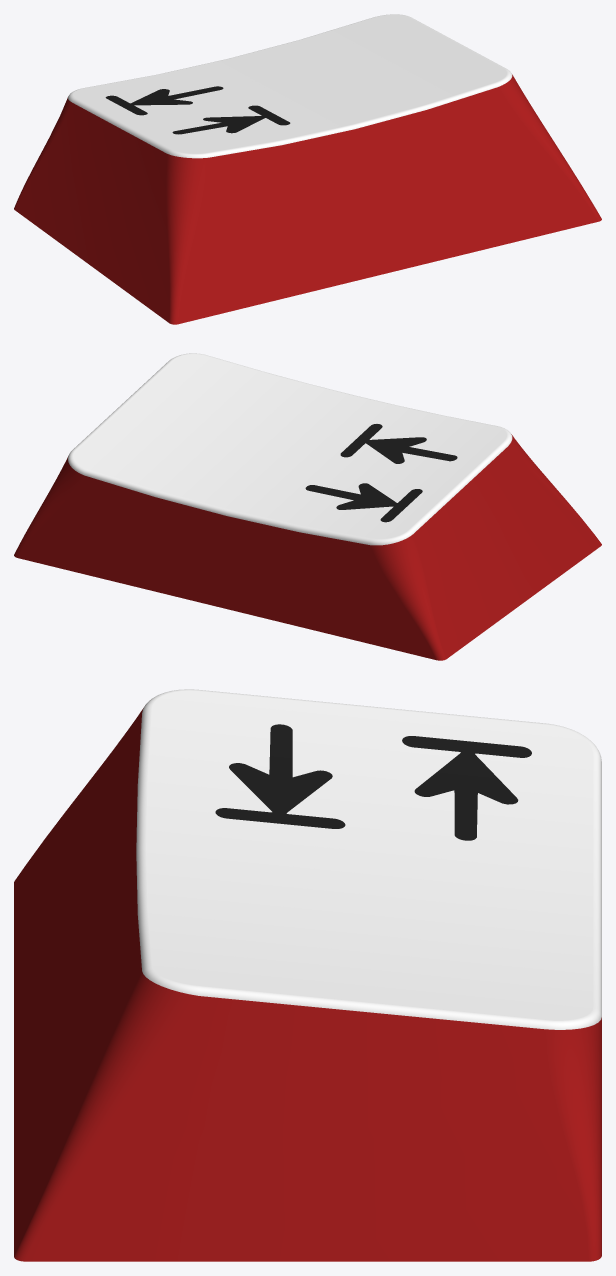
File: Tab Icon 150.fbx
The picture shows the model from 3 angles, top to bottom: view 1: azimuth 30°, elevation 25°; view 2: azimuth 150°, elevation 25°; view 3: azimuth 270°, elevation 25°; orthographic projection. The views are drawn at different scales.
Parts seen in each view (by area): view 1: Body1; view 2: Body1; view 3: Body1.
Part boxes in pixels (x1=…): Body1: x1=14, y1=14, x2=601, y2=324; Body1: x1=14, y1=353, x2=601, y2=660; Body1: x1=14, y1=689, x2=601, y2=1261.
Bounding box in the file's own units: 27.81 × 7.89 × 18.
